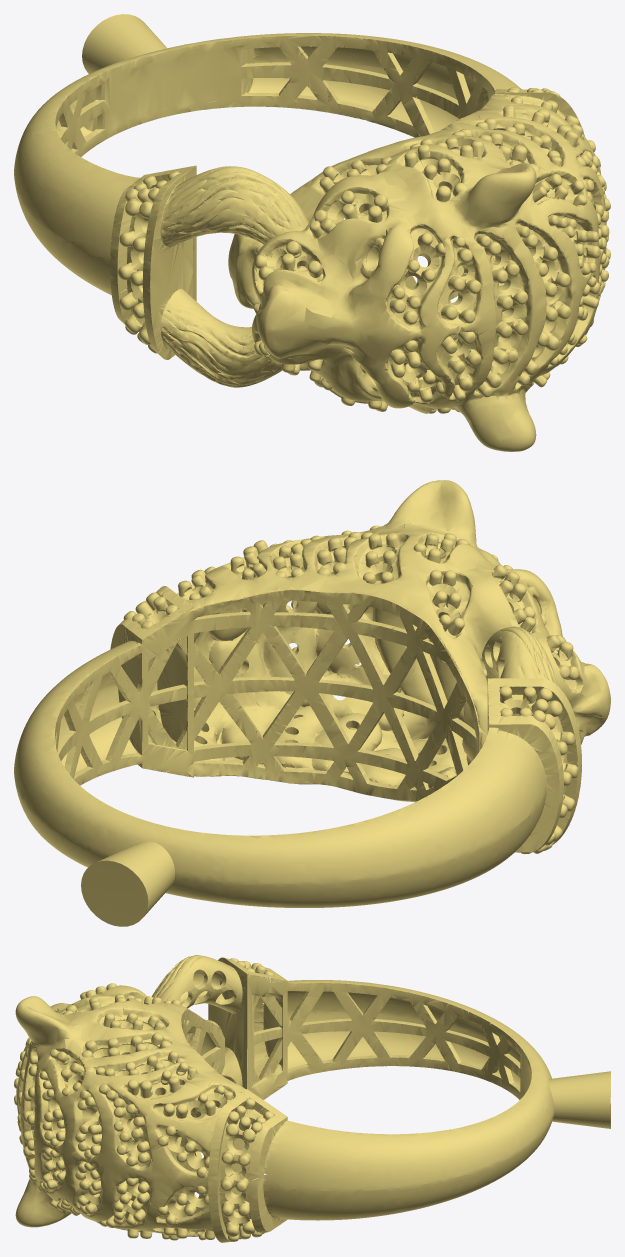
Rendered from shell_1_of_ms_hzr_001.glb.
The picture shows the model from 3 angles, top to bottom: view 1: azimuth 30°, elevation 25°; view 2: azimuth 150°, elevation 25°; view 3: azimuth 270°, elevation 25°; orthographic projection. The views are drawn at different scales.
Visible parts, largest first — view 1: Renderer Node; view 2: Renderer Node; view 3: Renderer Node.
Boxes of the visible parts, x1,y1,x2,y2 form: Renderer Node: (14,14,610,451); Renderer Node: (14,480,610,926); Renderer Node: (14,955,610,1242).
Size of the model in its own units: 22.72 by 12.81 by 31.46.
